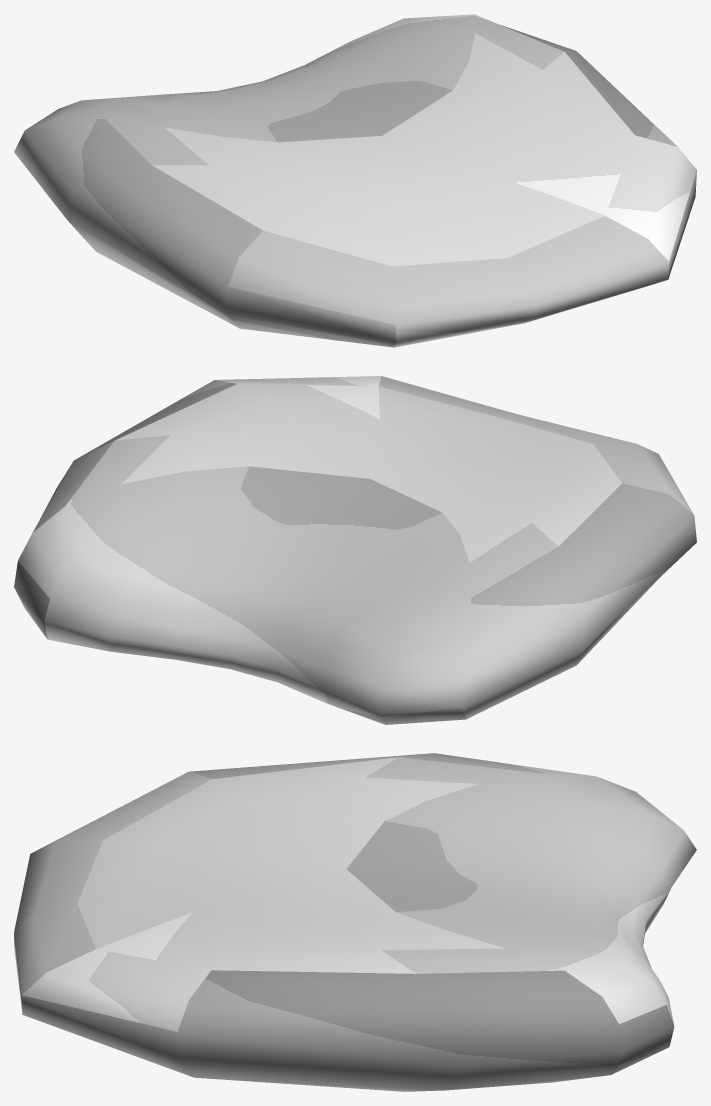
Rendered from seapebble2.fbx.
3 renders of one model, top to bottom at view 1: azimuth 30°, elevation 25°; view 2: azimuth 150°, elevation 25°; view 3: azimuth 270°, elevation 25°, orthographic. The views are drawn at different scales.
Visible parts, largest first — view 1: seapebble2; view 2: seapebble2; view 3: seapebble2.
Part boxes in pixels (bbox=[...]): seapebble2: bbox=[14, 14, 696, 347]; seapebble2: bbox=[14, 376, 696, 724]; seapebble2: bbox=[14, 753, 696, 1091].
Bounding box in the file's own units: 6.87 × 7.33 × 1.64.
